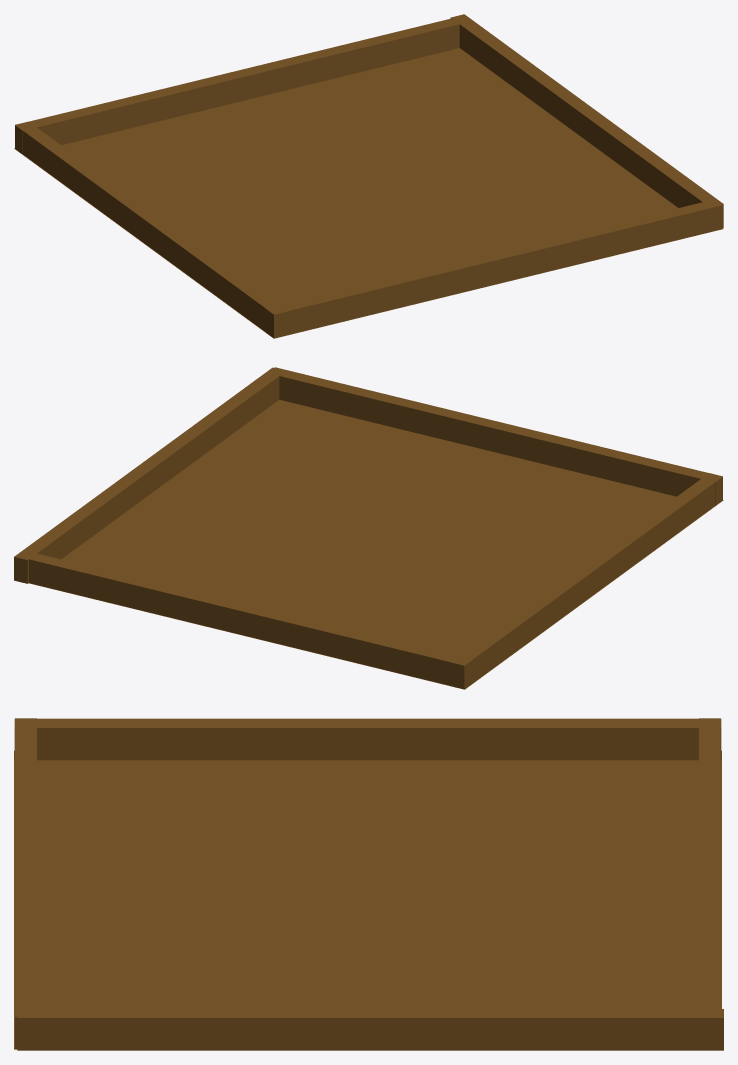
File: blockout1.ground.fbx
The picture shows the model from 3 angles, top to bottom: view 1: azimuth 30°, elevation 25°; view 2: azimuth 150°, elevation 25°; view 3: azimuth 270°, elevation 25°; orthographic projection. The views are drawn at different scales.
Visible parts, largest first — view 1: Cube.001; view 2: Cube.001; view 3: Cube.001.
Boxes of the visible parts, x1,y1,x2,y2 form: Cube.001: (14, 14, 723, 338); Cube.001: (14, 367, 723, 689); Cube.001: (14, 718, 723, 1050).
Bounding box in the file's own units: 3986 × 201 × 3988.
